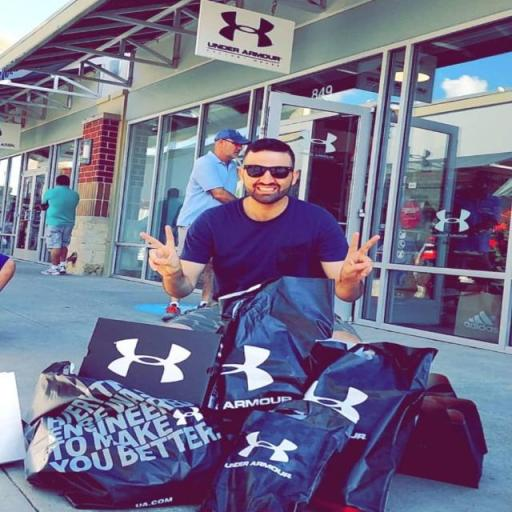Adidas: (462, 309, 501, 336)
Under Armour: (204, 8, 284, 64), (107, 336, 193, 384), (217, 340, 276, 393), (236, 430, 300, 464), (430, 208, 472, 233), (297, 130, 339, 154)
